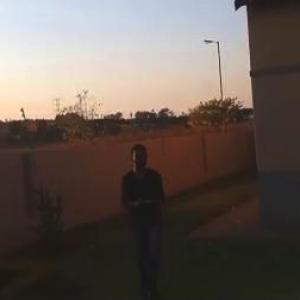follow: (118, 136, 174, 299)
